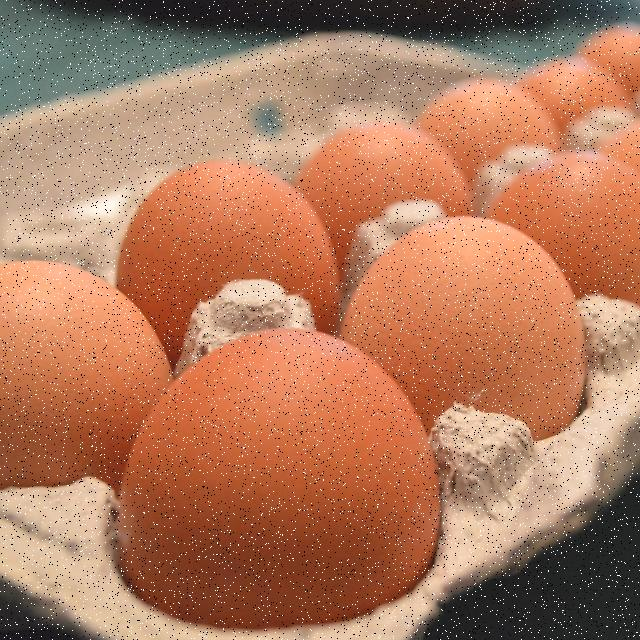Egg: (127, 342, 429, 578), (365, 227, 601, 466), (0, 198, 183, 491), (98, 100, 330, 326)
